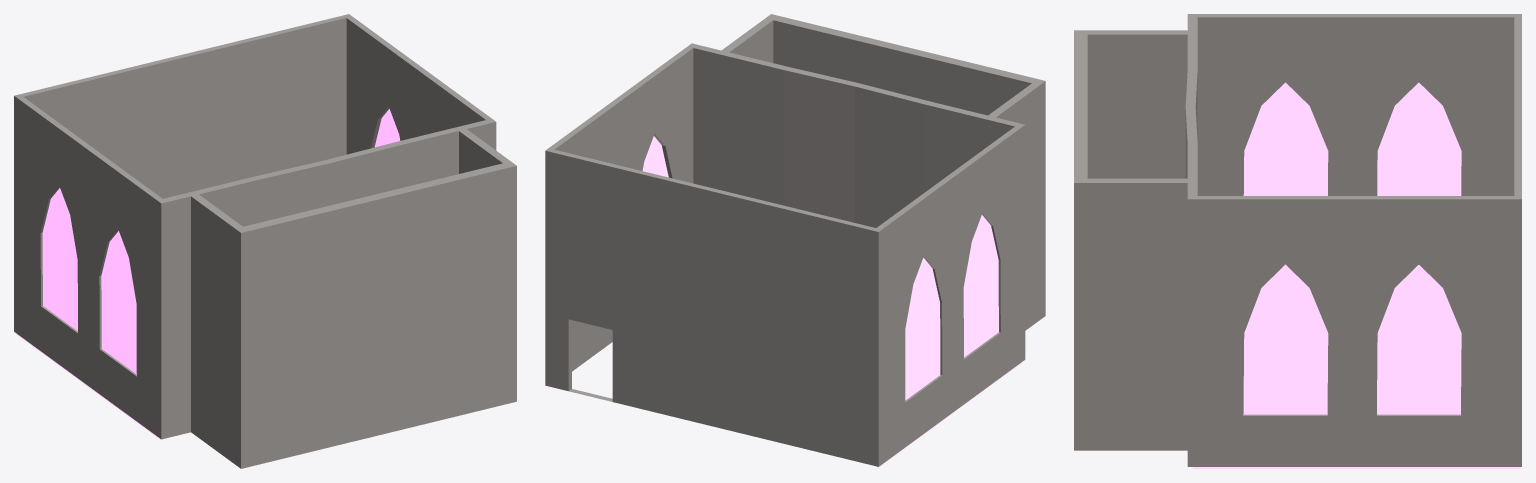
File: pared1.fbx
3 renders of one model, left to right at view 1: azimuth 30°, elevation 25°; view 2: azimuth 150°, elevation 25°; view 3: azimuth 270°, elevation 25°, orthographic. The views are drawn at different scales.
Parts seen in each view (by area): view 1: Cube.001, Plane.001, Plane; view 2: Cube.001, Plane.001, Plane; view 3: Cube.001, Plane, Plane.001.
Part boxes in pixels (<box>): Cube.001: <box>14,14,516,468</box>; Plane.001: <box>16,188,161,439</box>; Plane: <box>374,109,400,147</box>; Cube.001: <box>545,14,1045,466</box>; Plane.001: <box>877,215,1021,468</box>; Plane: <box>547,136,668,388</box>; Cube.001: <box>1074,14,1521,466</box>; Plane: <box>1192,264,1520,468</box>; Plane.001: <box>1243,82,1461,195</box>.
Size of the model in its own units: 43.2 by 29.42 by 44.1.
